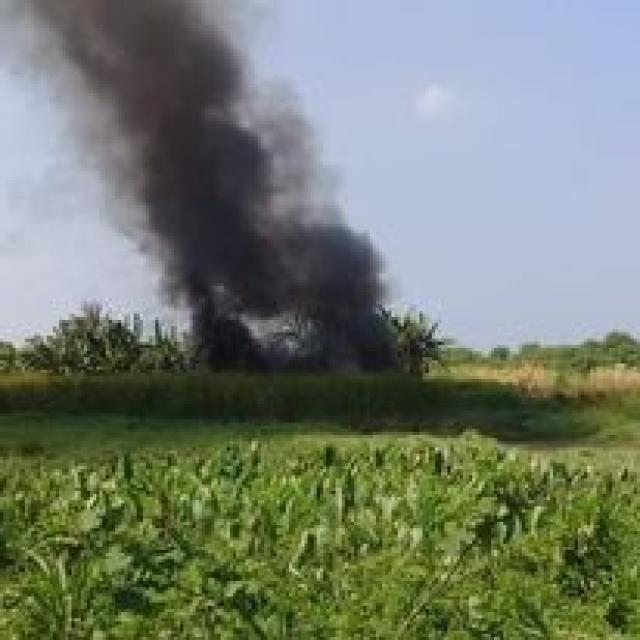Smoke: (29, 0, 409, 373)
